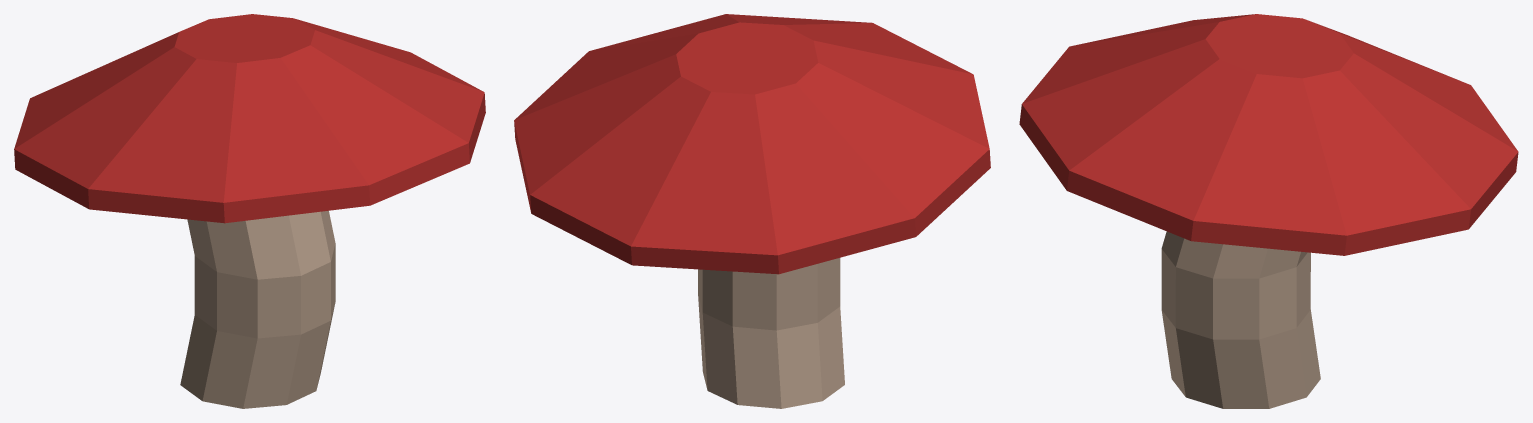
File: Mushrooms1.fbx
3 renders of one model, left to right at view 1: azimuth 30°, elevation 25°; view 2: azimuth 150°, elevation 25°; view 3: azimuth 270°, elevation 25°, orthographic. The views are drawn at different scales.
Parts seen in each view (by area): view 1: Mr1_mesh_LOD0; view 2: Mr1_mesh_LOD0; view 3: Mr1_mesh_LOD0.
Boxes of the visible parts, left/top/right/bottom form: Mr1_mesh_LOD0: left=14, top=14, right=485, bottom=408; Mr1_mesh_LOD0: left=514, top=14, right=990, bottom=408; Mr1_mesh_LOD0: left=1019, top=14, right=1518, bottom=408.
Size of what is drawn, in the model's own units: 15.91 by 12.76 by 16.72.
